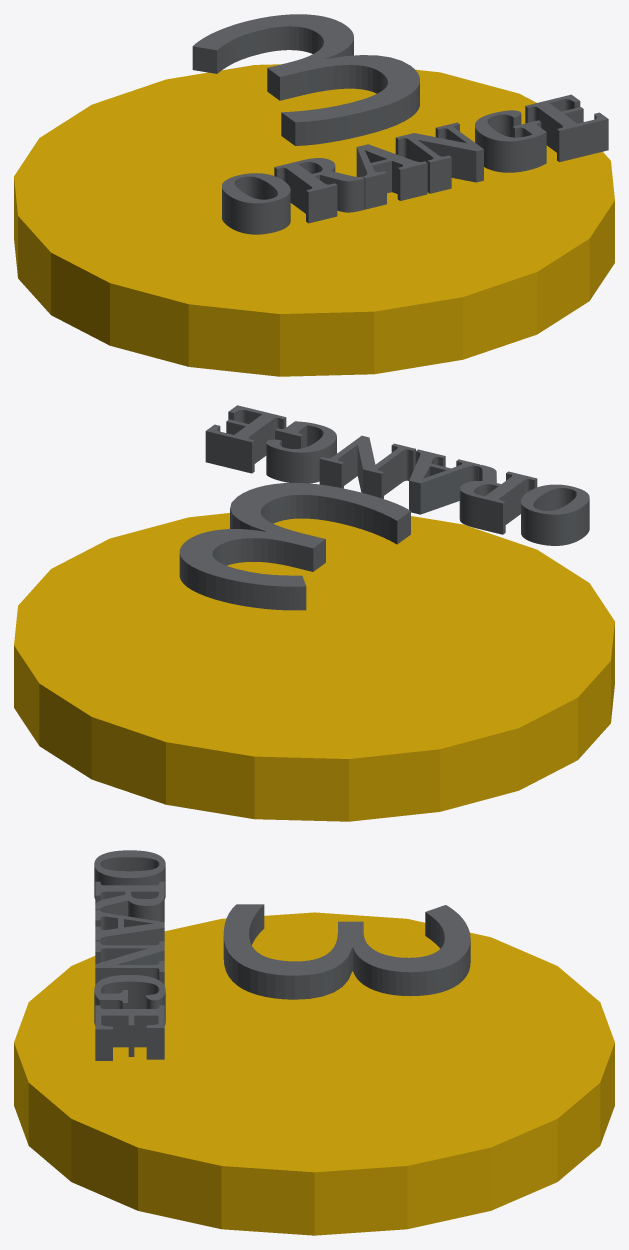
The model's file is 3orange.gltf.
3 renders of one model, top to bottom at view 1: azimuth 30°, elevation 25°; view 2: azimuth 150°, elevation 25°; view 3: azimuth 270°, elevation 25°, orthographic.
Parts seen in each view (by area): view 1: Mesh_Mesh_head_geo001_lambert2SG001; view 2: Mesh_Mesh_head_geo001_lambert2SG001; view 3: Mesh_Mesh_head_geo001_lambert2SG001.
Part boxes in pixels (x1,y1,x2,y2): Mesh_Mesh_head_geo001_lambert2SG001: (14,14,614,376); Mesh_Mesh_head_geo001_lambert2SG001: (14,405,614,821); Mesh_Mesh_head_geo001_lambert2SG001: (14,850,614,1235).
Size of the model in its own units: 176 by 54.56 by 172.
